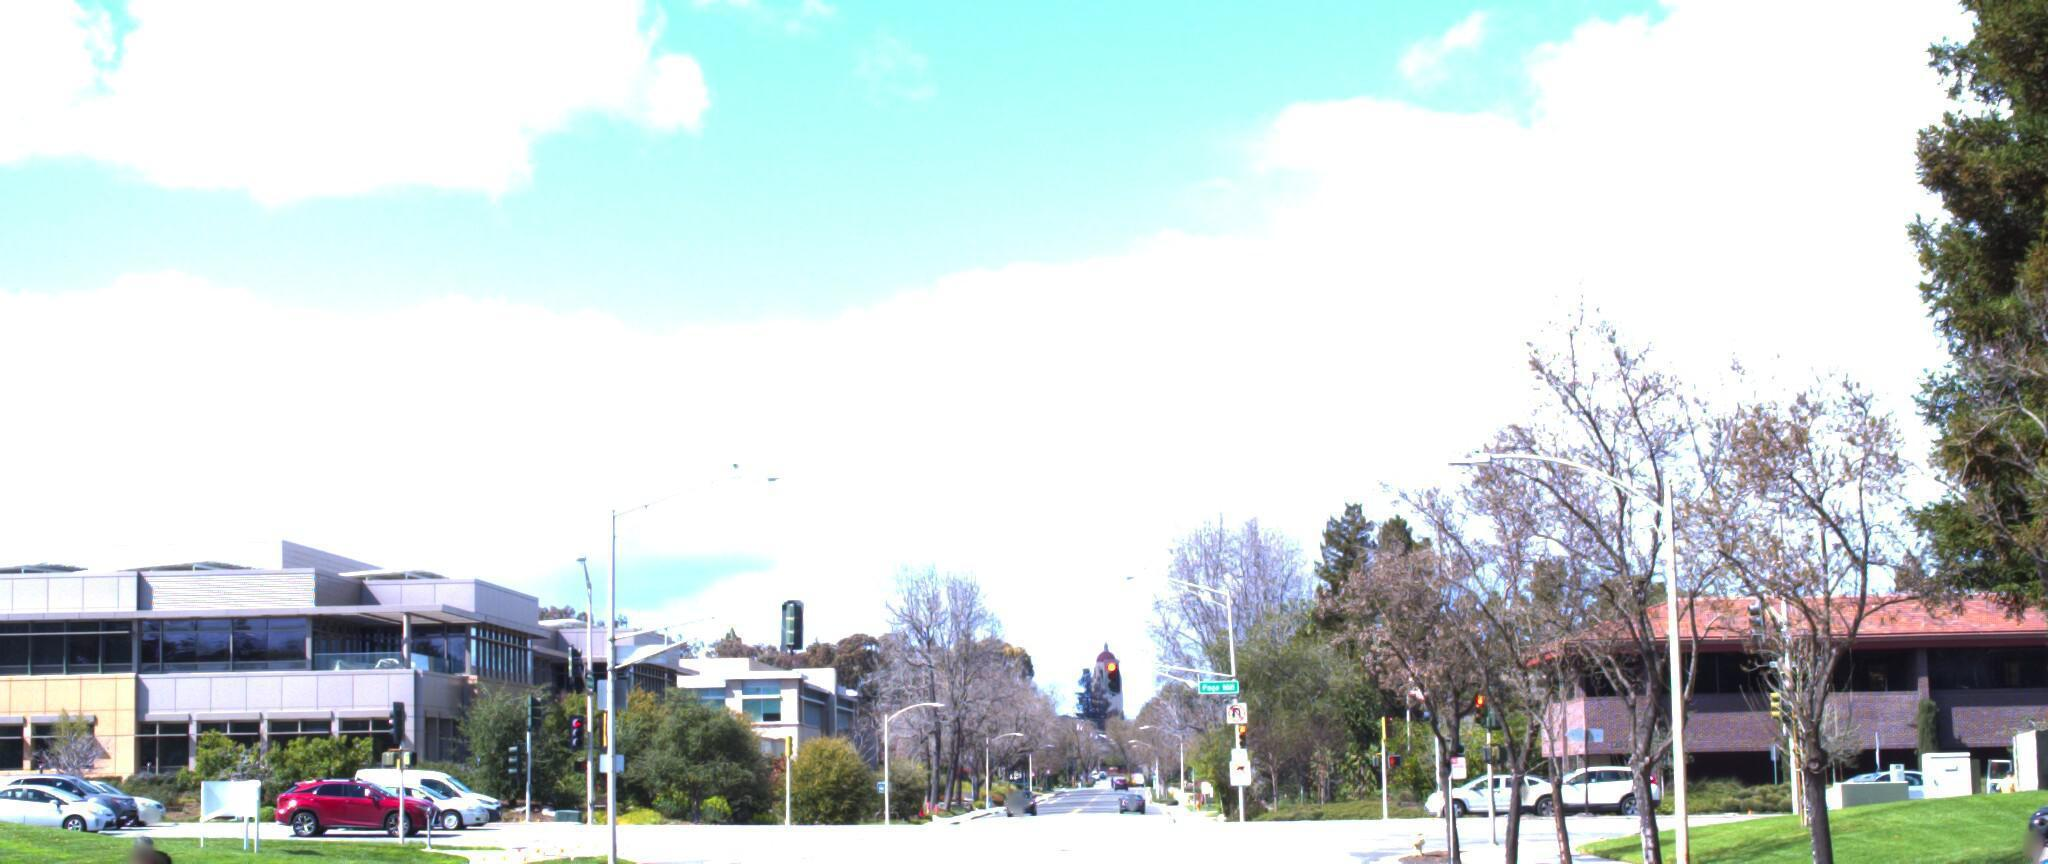bicycle: (1877, 780, 2048, 864), (84, 834, 204, 864)
